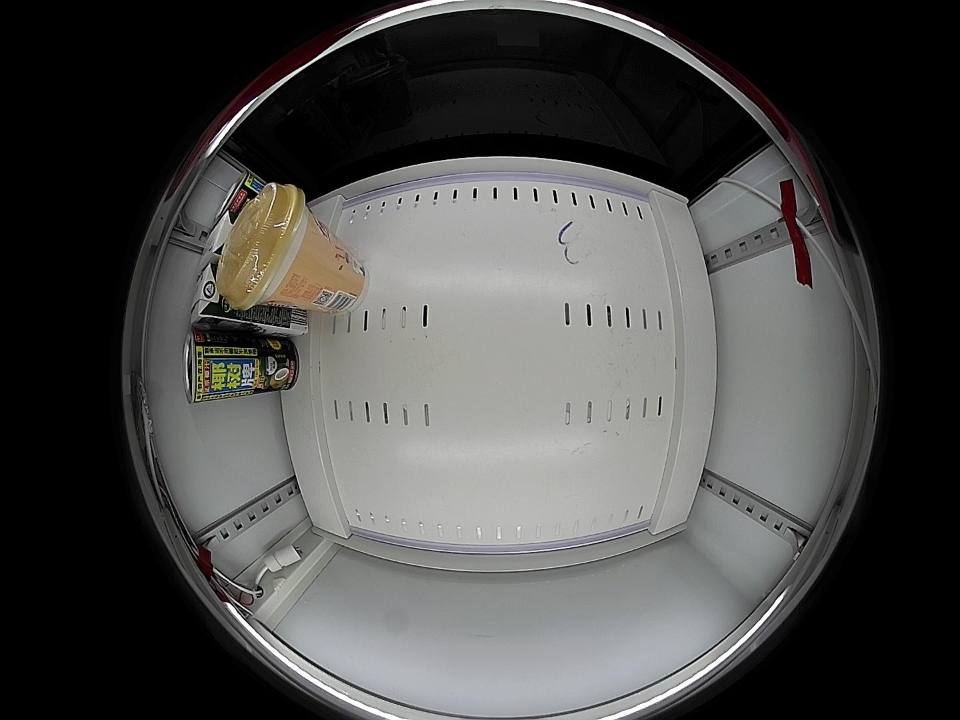jindian: (189, 260, 227, 330), (199, 211, 234, 272)
yezhi: (184, 330, 228, 404), (216, 172, 264, 226)
youlemei: (219, 182, 314, 311)
